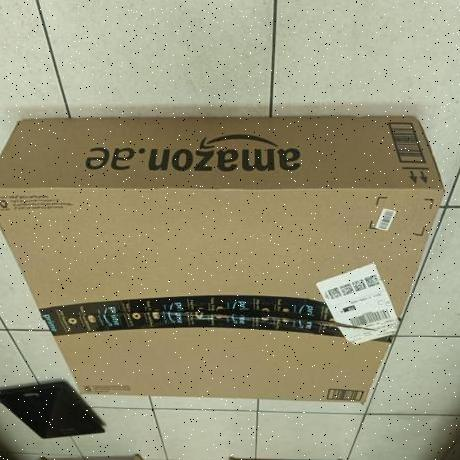Amazon: (0, 115, 444, 408)
